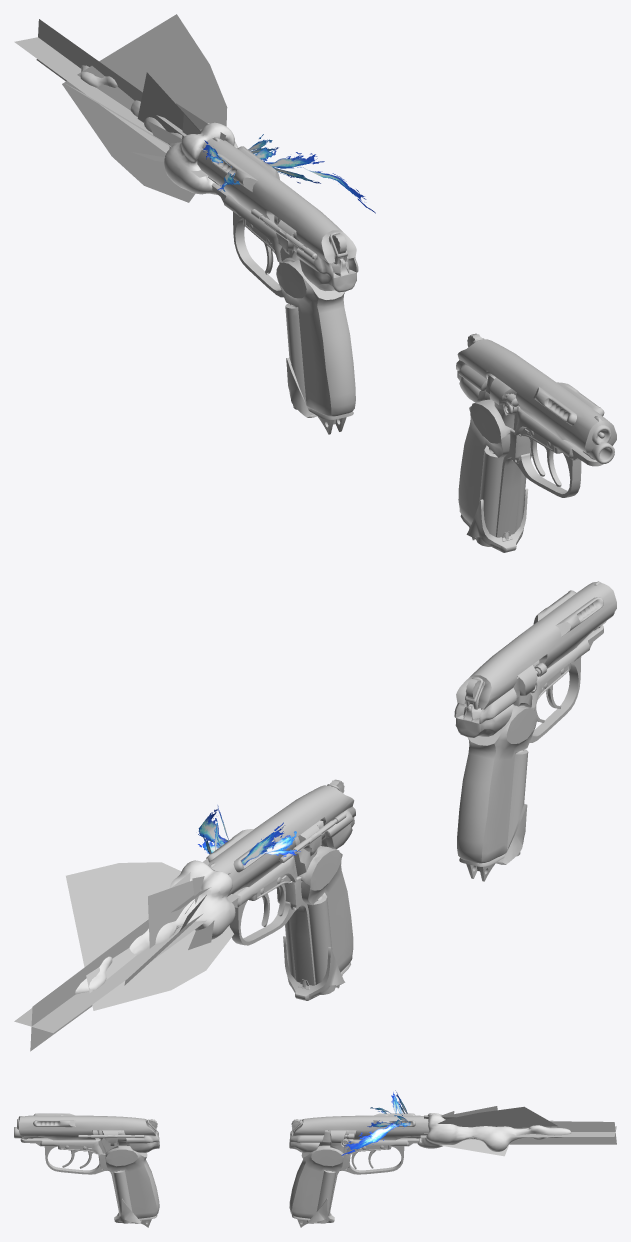
Rendered from 2022-01-17_gun.fbx.
3 views of the same model, one above another, from view 1: azimuth 30°, elevation 25°; view 2: azimuth 150°, elevation 25°; view 3: azimuth 270°, elevation 25° (orthographic). The views are drawn at different scales.
Parts seen in each view (by area): view 1: gun.fire, gun, flames_atlas_emit, Sphere, Plane.018; view 2: gun, flames_atlas_emit, gun.fire, Sphere, Plane.018; view 3: gun, gun.fire, flames_atlas_emit, Sphere, Plane.018.
Boxes of the visible parts, x1=… form: gun.fire: x1=197, y1=137, x2=358, y2=434; gun: x1=456, y1=333, x2=616, y2=552; flames_atlas_emit: x1=14, y1=14, x2=227, y2=202; Sphere: x1=80, y1=65, x2=238, y2=195; Plane.018: x1=203, y1=134, x2=375, y2=213; gun: x1=454, y1=581, x2=616, y2=881; flames_atlas_emit: x1=14, y1=858, x2=240, y2=1051; gun.fire: x1=206, y1=779, x2=355, y2=1000; Sphere: x1=75, y1=860, x2=235, y2=994; Plane.018: x1=198, y1=805, x2=300, y2=865; gun: x1=14, y1=1113, x2=159, y2=1227; gun.fire: x1=289, y1=1113, x2=429, y2=1227; flames_atlas_emit: x1=420, y1=1106, x2=616, y2=1156; Sphere: x1=417, y1=1113, x2=571, y2=1151; Plane.018: x1=341, y1=1090, x2=410, y2=1155.
Bounding box in the file's own units: 250 × 415 × 1704.
